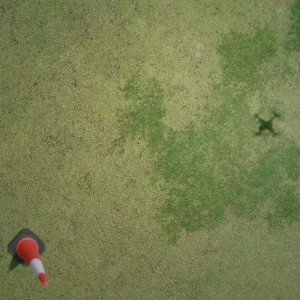traffic cone: (7, 228, 48, 285)
